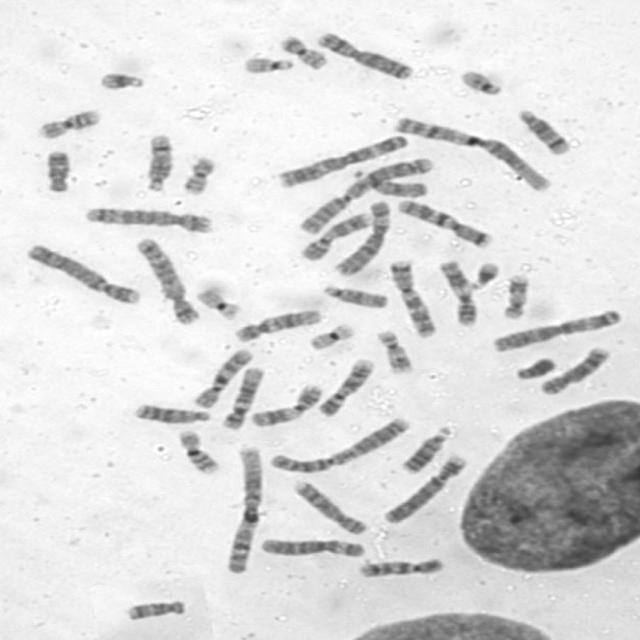A1: (390, 115, 554, 192), (219, 442, 265, 574)
A2: (294, 155, 434, 236), (265, 414, 412, 475)
A3: (272, 131, 410, 189), (488, 307, 626, 353)
B4: (22, 240, 143, 306), (378, 451, 471, 526)
B5: (132, 234, 202, 327), (81, 203, 216, 234)
C10: (189, 346, 255, 408), (353, 554, 448, 580)
C11: (245, 382, 324, 429), (435, 258, 478, 327)
C12: (230, 305, 324, 343), (218, 364, 265, 431)
C6: (331, 198, 394, 276), (256, 534, 366, 560)
C7: (395, 197, 493, 249), (386, 257, 438, 339)
C8: (290, 478, 369, 536), (536, 343, 611, 397)
C9: (296, 210, 374, 262), (314, 355, 377, 418)
D13: (397, 423, 454, 475), (130, 400, 211, 426)
D14: (516, 106, 572, 156), (140, 131, 175, 194)
D15: (350, 166, 430, 198), (320, 282, 390, 310)
E16: (173, 426, 220, 476), (33, 106, 102, 139)
E17: (373, 327, 416, 375), (500, 271, 531, 321)
E18: (122, 596, 187, 622), (41, 147, 74, 195)
F19: (193, 284, 243, 322), (304, 319, 356, 352)
F20: (276, 32, 330, 71), (178, 153, 218, 196)
G21: (95, 68, 146, 92), (467, 258, 502, 289)
G22: (456, 66, 505, 97), (238, 53, 296, 75)
X: (312, 29, 416, 81)
Y: (510, 354, 557, 381)
